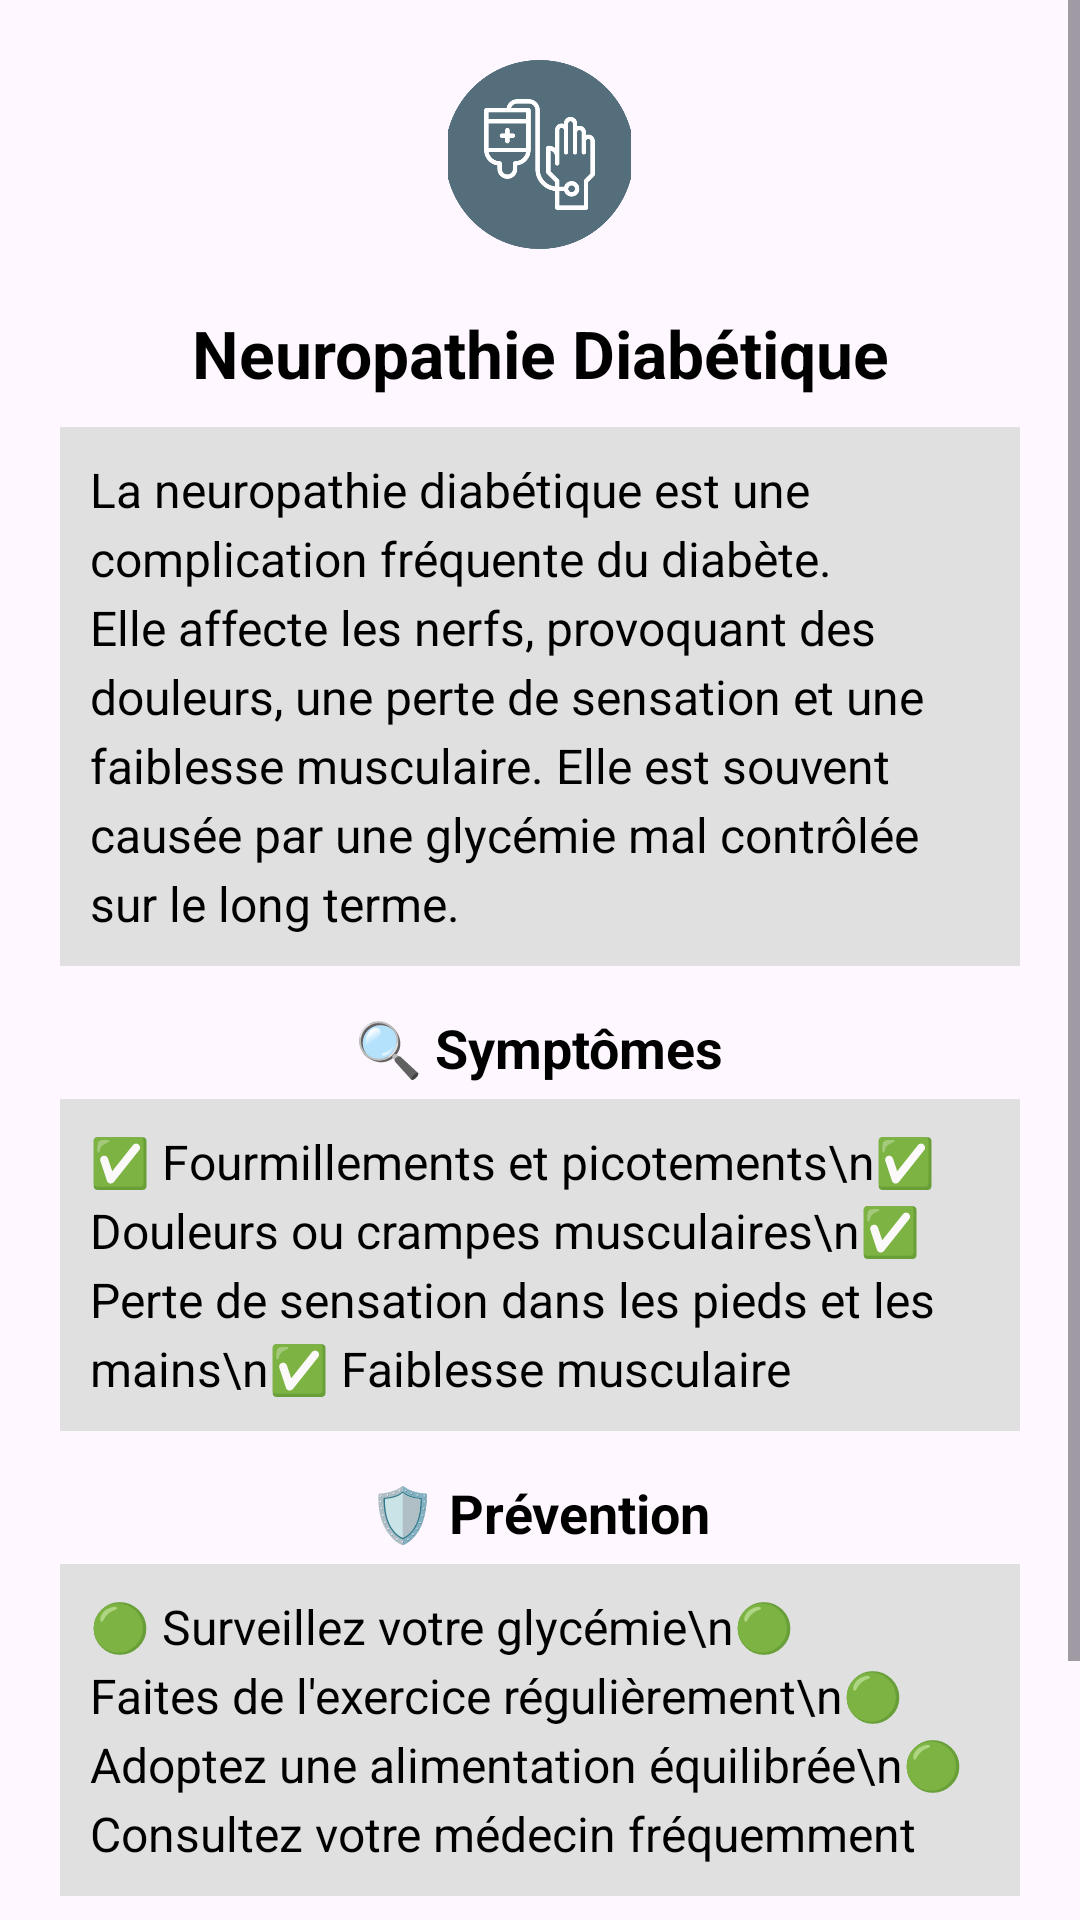

Where to tap for icons on this 1080w x 1920h app screen, as (x=x, y=y):
Illustration de la neuropathie: (x=539, y=154)
